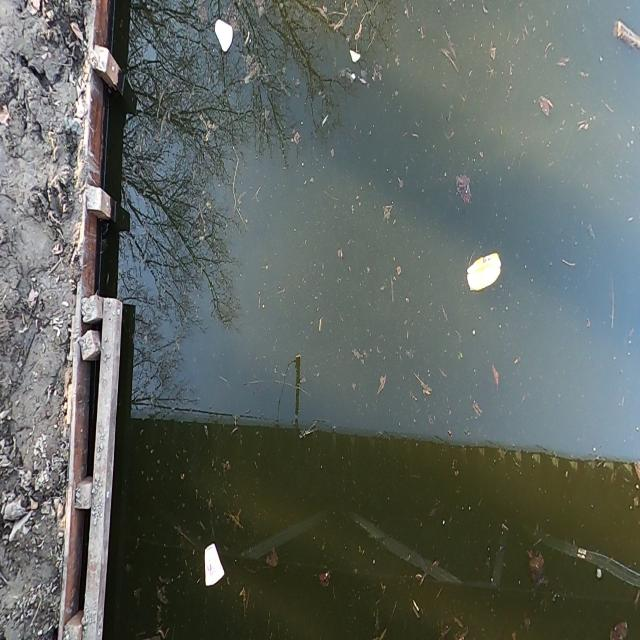Non plastique: (462, 245, 507, 301), (199, 543, 223, 593), (210, 14, 236, 53)
